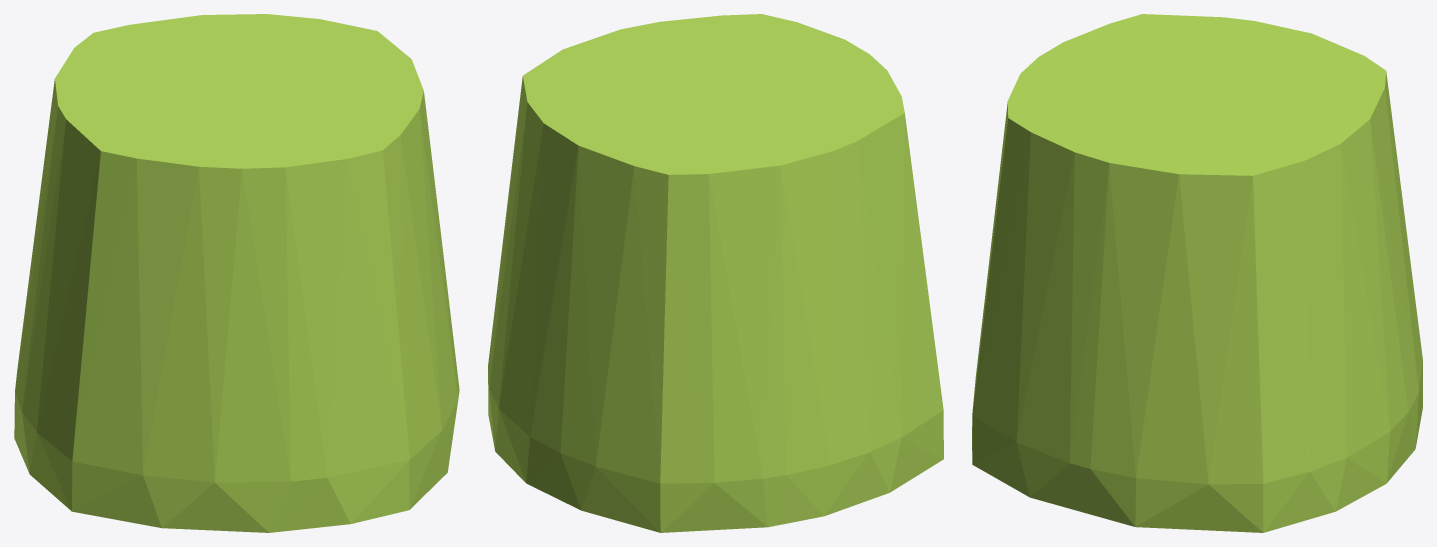
File: niryo_Link_3_coll_1.dae
The picture shows the model from 3 angles, left to right: view 1: azimuth 30°, elevation 25°; view 2: azimuth 150°, elevation 25°; view 3: azimuth 270°, elevation 25°; orthographic projection.
Visible parts, largest first — view 1: Node_000001B04DB52530; view 2: Node_000001B04DB52530; view 3: Node_000001B04DB52530.
Boxes of the visible parts, x1,y1,x2,y2 form: Node_000001B04DB52530: [14, 14, 459, 532]; Node_000001B04DB52530: [488, 14, 943, 532]; Node_000001B04DB52530: [972, 14, 1422, 532].
Bounding box in the file's own units: 0.049 × 0.0413 × 0.0489.
